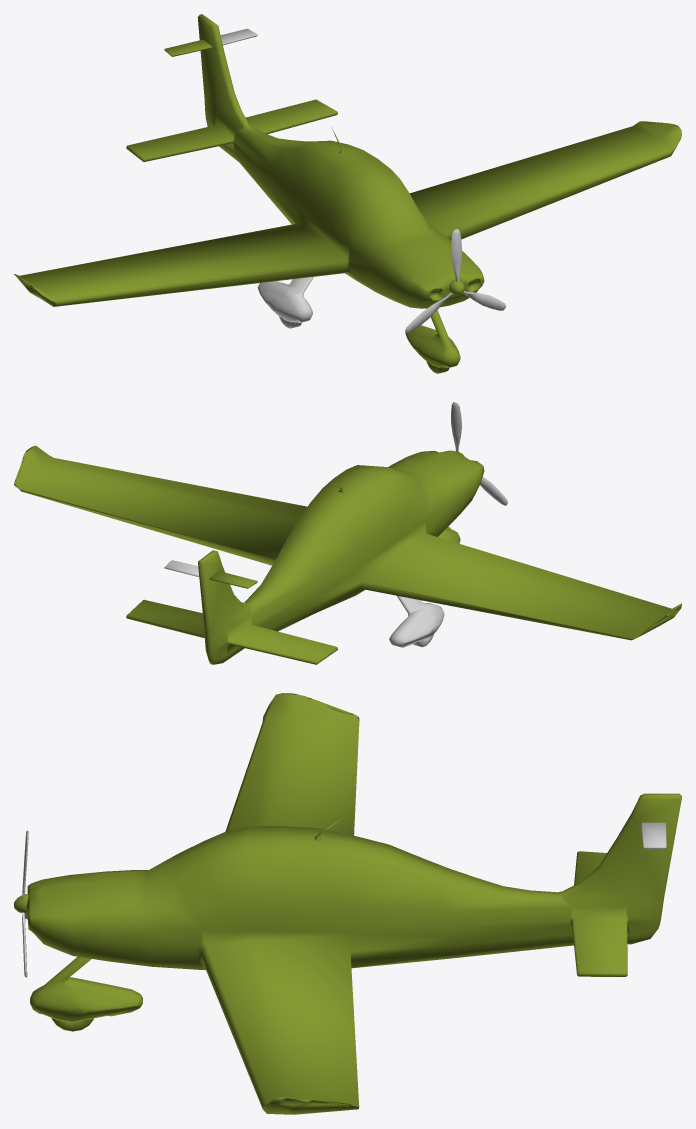
The picture shows the model from 3 angles, top to bottom: view 1: azimuth 30°, elevation 25°; view 2: azimuth 150°, elevation 25°; view 3: azimuth 270°, elevation 25°; orthographic projection. The views are drawn at different scales.
Visible parts, largest first — view 1: cylinder1_sep8, cylinder1, cylinder1_sep3; view 2: cylinder1_sep8, cylinder1, cylinder1_default2, cylinder1_sep10; view 3: cylinder1_sep8, cylinder1_sep3, cylinder1_sep13.
Part boxes in pixels (left/top/right/bottom): cylinder1_sep8: left=14, top=14, right=681, bottom=308; cylinder1: left=257, top=277, right=313, bottom=322; cylinder1_sep3: left=405, top=310, right=460, bottom=368; cylinder1_sep8: left=14, top=445, right=681, bottom=664; cylinder1: left=389, top=595, right=444, bottom=647; cylinder1_default2: left=209, top=571, right=257, bottom=588; cylinder1_sep10: left=451, top=402, right=462, bottom=451; cylinder1_sep8: left=26, top=693, right=681, bottom=1114; cylinder1_sep3: left=30, top=957, right=142, bottom=1022; cylinder1_sep13: left=641, top=822, right=666, bottom=849.
Bounding box in the file's own units: 13.88 × 3.74 × 9.66.
